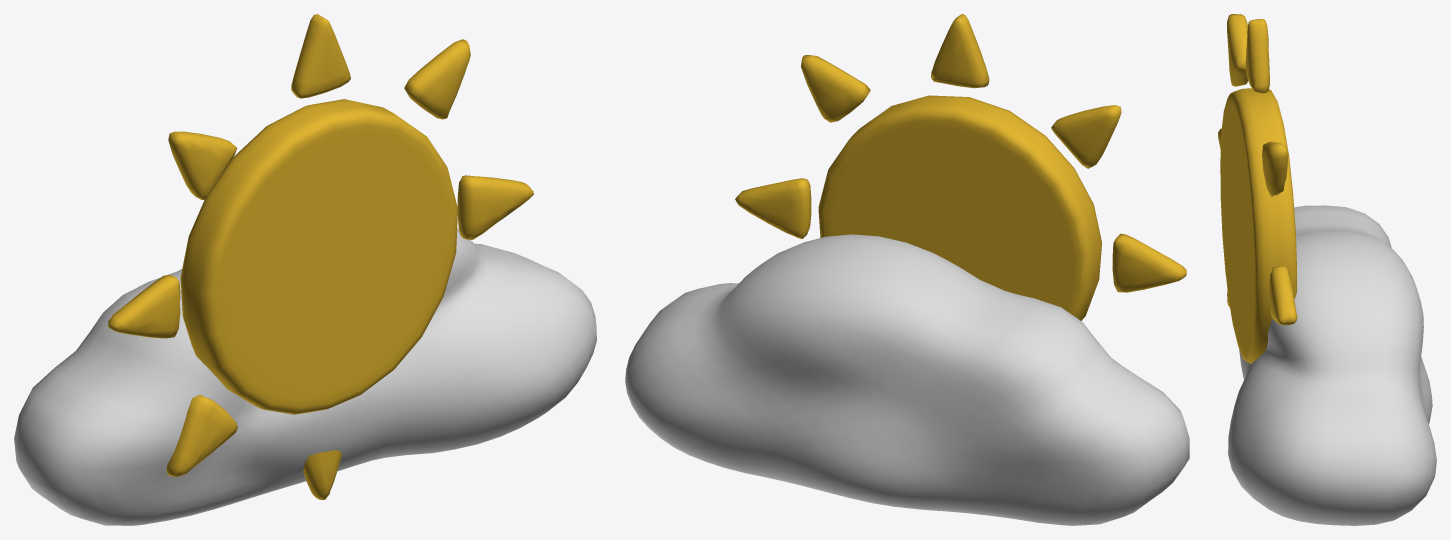
The model's file is cloudy FBX.glb.
3 renders of one model, left to right at view 1: azimuth 30°, elevation 25°; view 2: azimuth 150°, elevation 25°; view 3: azimuth 270°, elevation 25°, orthographic. The views are drawn at different scales.
Parts seen in each view (by area): view 1: Group26308, Group11584, ZBrush_defualt_group, Group2, Group4, Group5, Group3, Group1, Group6; view 2: Group26308, Group11584, ZBrush_defualt_group, Group4, Group2, Group3, Group1; view 3: Group26308, Group11584, Group2, ZBrush_defualt_group, Group1, Group3.
Boxes of the visible parts, x1,y1,x2,y2 form: Group26308: (14, 229, 596, 525); Group11584: (180, 99, 457, 414); ZBrush_defualt_group: (457, 175, 533, 239); Group2: (291, 14, 350, 98); Group4: (108, 275, 180, 338); Group5: (166, 395, 237, 476); Group3: (404, 39, 470, 119); Group1: (168, 131, 237, 199); Group6: (303, 450, 341, 499); Group26308: (625, 234, 1189, 525); Group11584: (818, 95, 1101, 320); ZBrush_defualt_group: (735, 178, 811, 238); Group4: (1112, 233, 1186, 292); Group2: (931, 14, 989, 88); Group3: (801, 55, 870, 122); Group1: (1051, 105, 1121, 168); Group26308: (1228, 205, 1436, 525); Group11584: (1220, 88, 1296, 363); Group2: (1245, 19, 1269, 93); ZBrush_defualt_group: (1269, 265, 1297, 325); Group1: (1227, 14, 1247, 86); Group3: (1262, 141, 1288, 196).
Size of the model in its own units: 0.6231 by 0.5157 by 0.2432.
